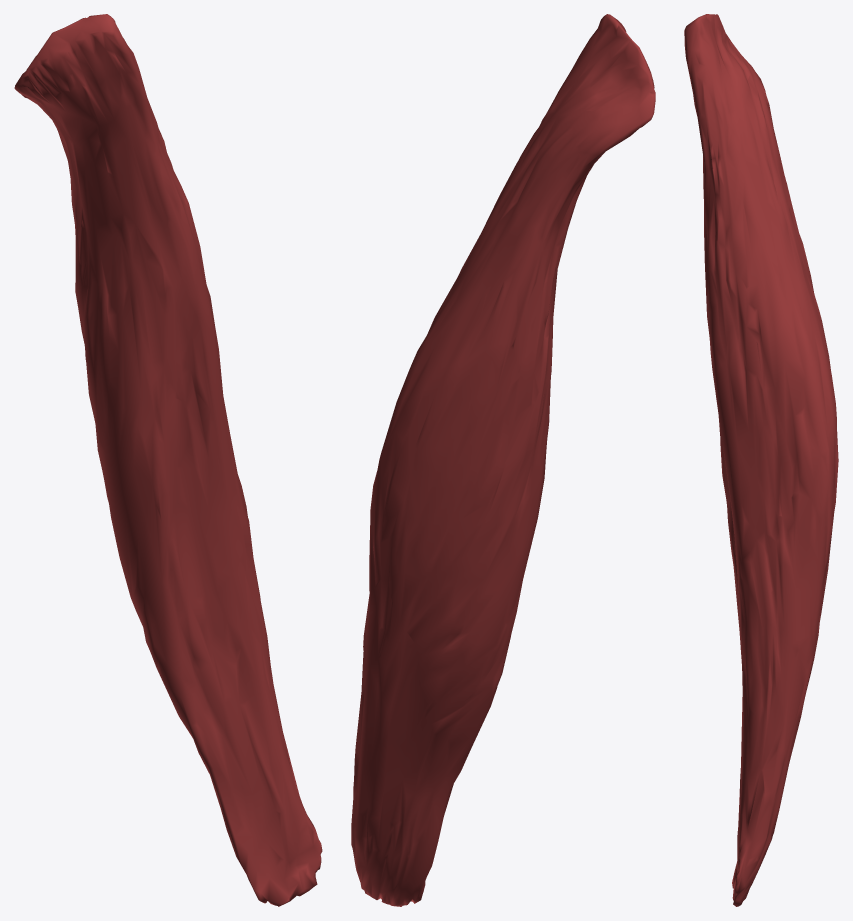
Rendered from long-head-of-triceps-brachii-l.glb.
3 views of the same model, side by side, from view 1: azimuth 30°, elevation 25°; view 2: azimuth 150°, elevation 25°; view 3: azimuth 270°, elevation 25° (orthographic). The views are drawn at different scales.
Visible parts, largest first — view 1: Long head of triceps brachii.l; view 2: Long head of triceps brachii.l; view 3: Long head of triceps brachii.l.
Boxes of the visible parts, left/top/right/bottom form: Long head of triceps brachii.l: left=14, top=14, right=322, bottom=906; Long head of triceps brachii.l: left=351, top=14, right=655, bottom=906; Long head of triceps brachii.l: left=684, top=14, right=838, bottom=906.
Size of the model in its own units: 0.0917 by 0.2721 by 0.0474.
